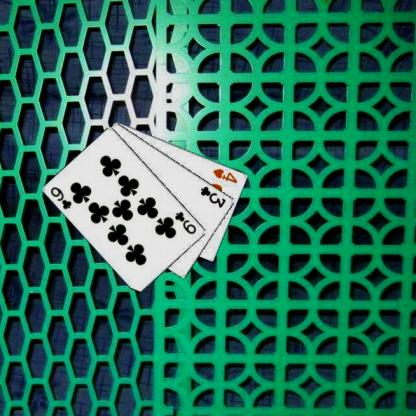3C: (198, 183, 227, 209)
4H: (211, 166, 239, 184)
9C: (172, 209, 198, 235), (48, 184, 73, 210)
